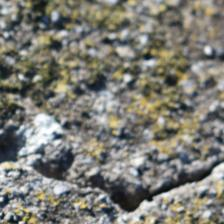Crack: (40, 159, 216, 214)
